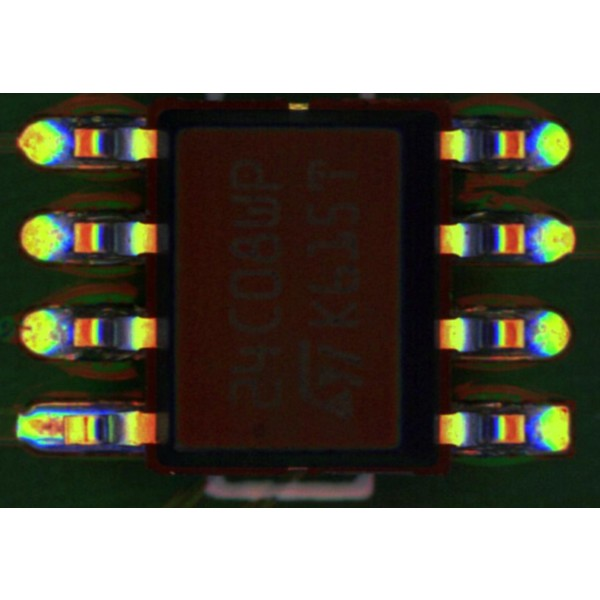Bad_podu: (48, 418, 76, 440)
